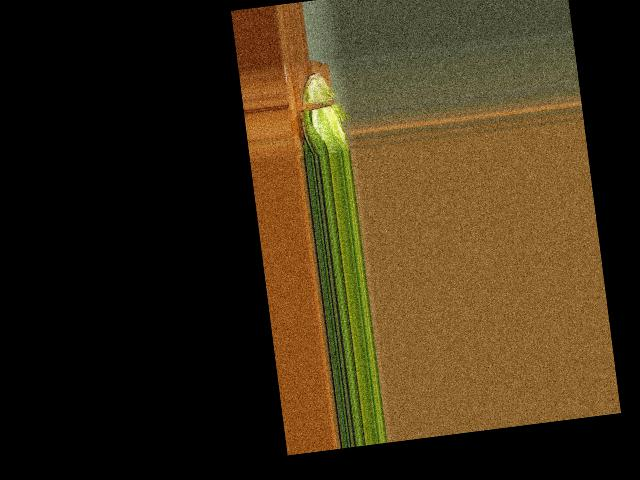lettuce: (290, 71, 351, 156)
